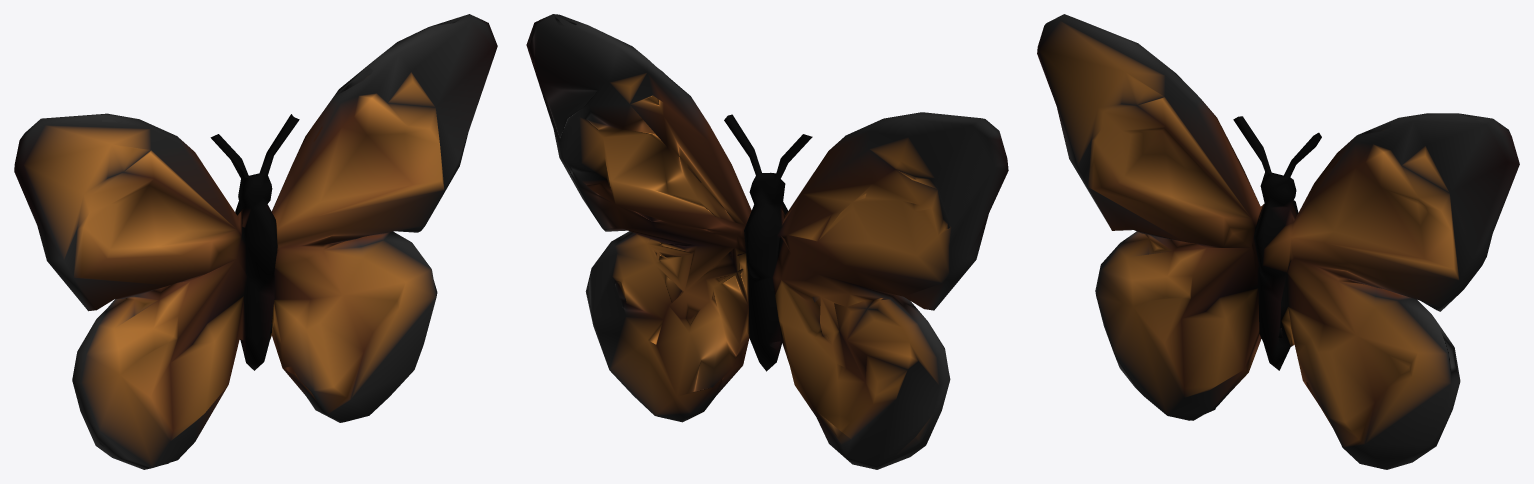
The model's file is gen3d-butterfly-lod1.glb.
3 views of the same model, side by side, from view 1: azimuth 30°, elevation 25°; view 2: azimuth 150°, elevation 25°; view 3: azimuth 330°, elevation 25° (orthographic).
Parts seen in each view (by area): view 1: part_0; view 2: part_0; view 3: part_0.
Part boxes in pixels (bbox=[...]): part_0: bbox=[14, 14, 497, 469]; part_0: bbox=[526, 14, 1008, 469]; part_0: bbox=[1037, 14, 1519, 469].
Bounding box in the file's own units: 1.34 × 0.9994 × 0.1822.
